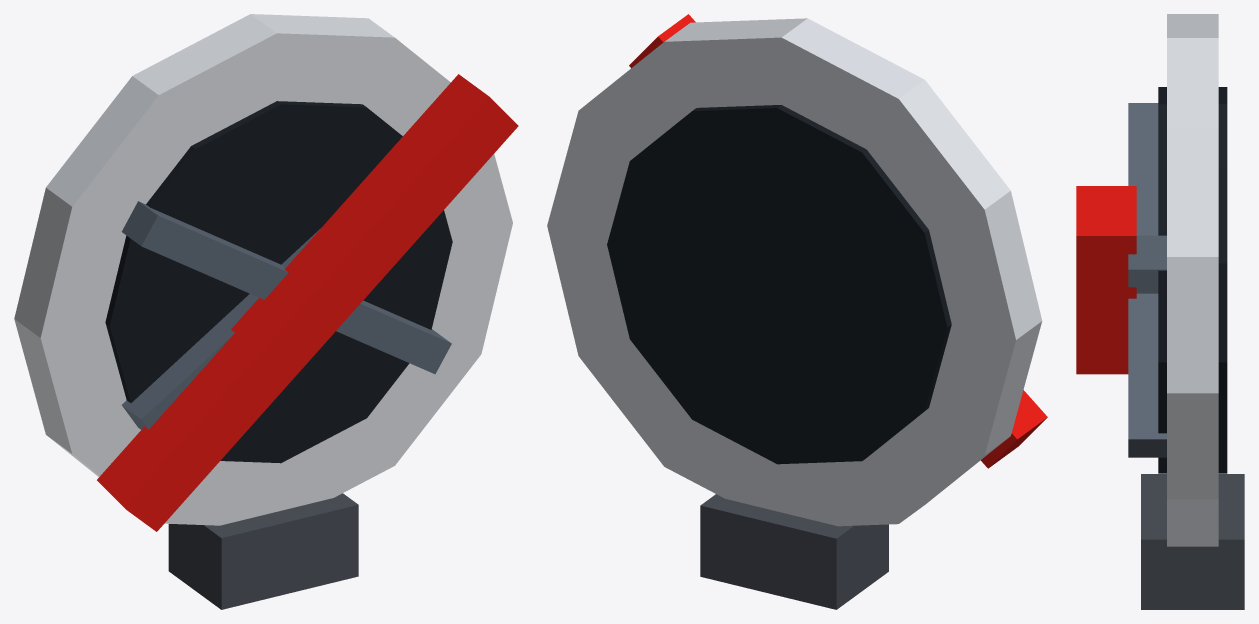
Rendered from Ayuno_low.fbx.
3 views of the same model, side by side, from view 1: azimuth 30°, elevation 25°; view 2: azimuth 150°, elevation 25°; view 3: azimuth 270°, elevation 25° (orthographic). The views are drawn at different scales.
Visible parts, largest first — view 1: Ayuno_low; view 2: Ayuno_low; view 3: Ayuno_low.
Part boxes in pixels (left/top/right/bottom): Ayuno_low: left=14, top=14, right=518, bottom=609; Ayuno_low: left=547, top=14, right=1047, bottom=609; Ayuno_low: left=1076, top=14, right=1244, bottom=609.
Bounding box in the file's own units: 62 × 69 × 19.5.
